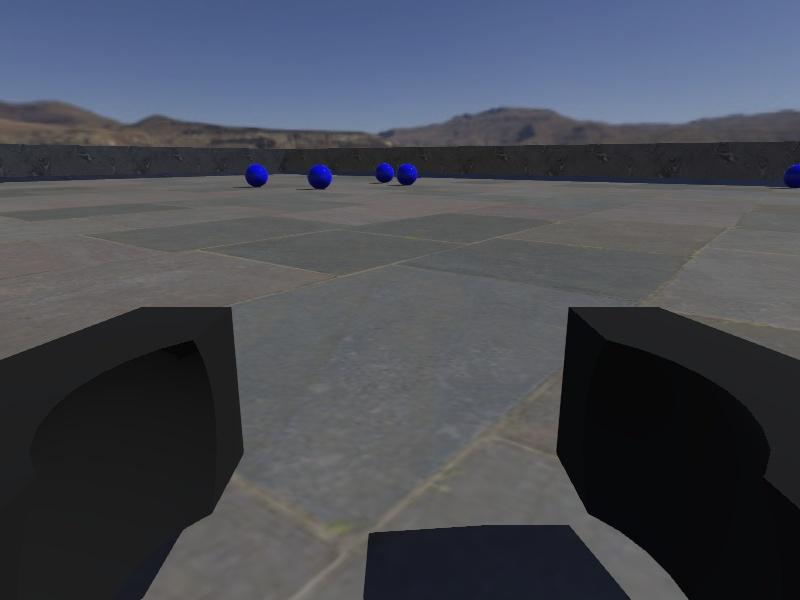blue ball: (307, 163, 333, 189), (245, 163, 268, 186), (396, 162, 418, 186), (374, 162, 395, 183)
